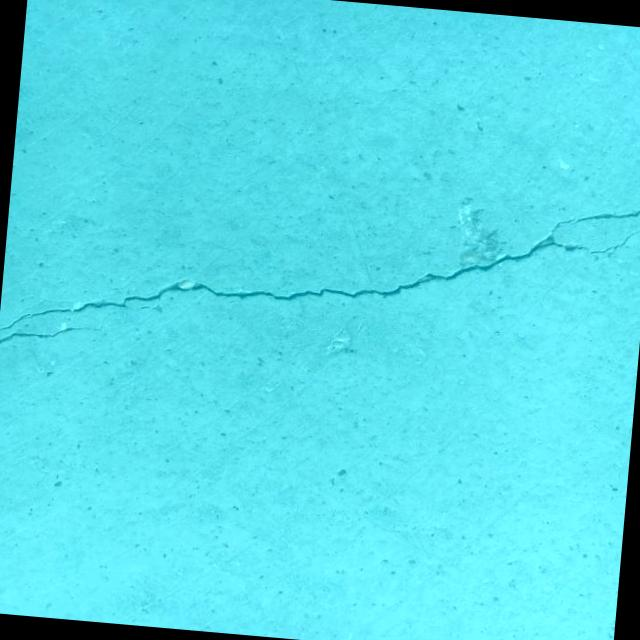crack: (0, 145, 640, 386), (0, 300, 117, 355), (22, 296, 54, 314)
